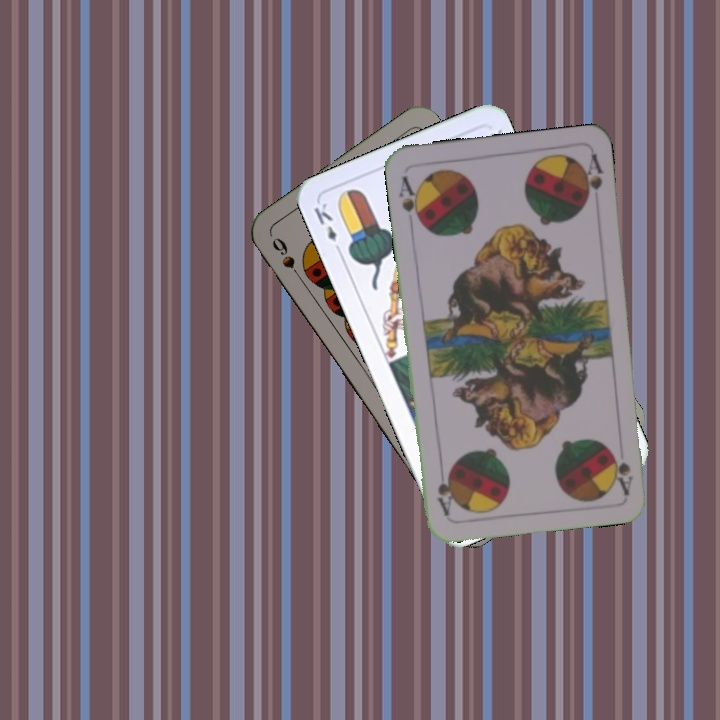EK: (310, 198, 345, 257)
S9: (267, 233, 307, 285)
SA: (394, 172, 425, 228), (610, 450, 635, 497)
